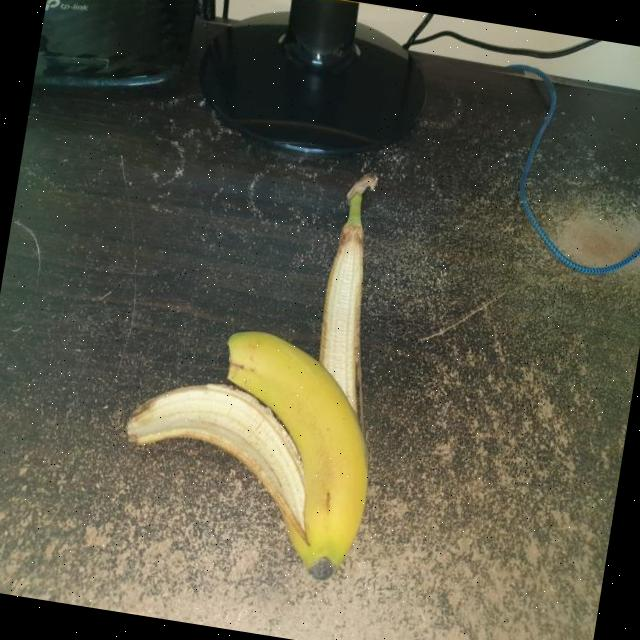banana-peel: (106, 310, 390, 586), (304, 166, 400, 422)
